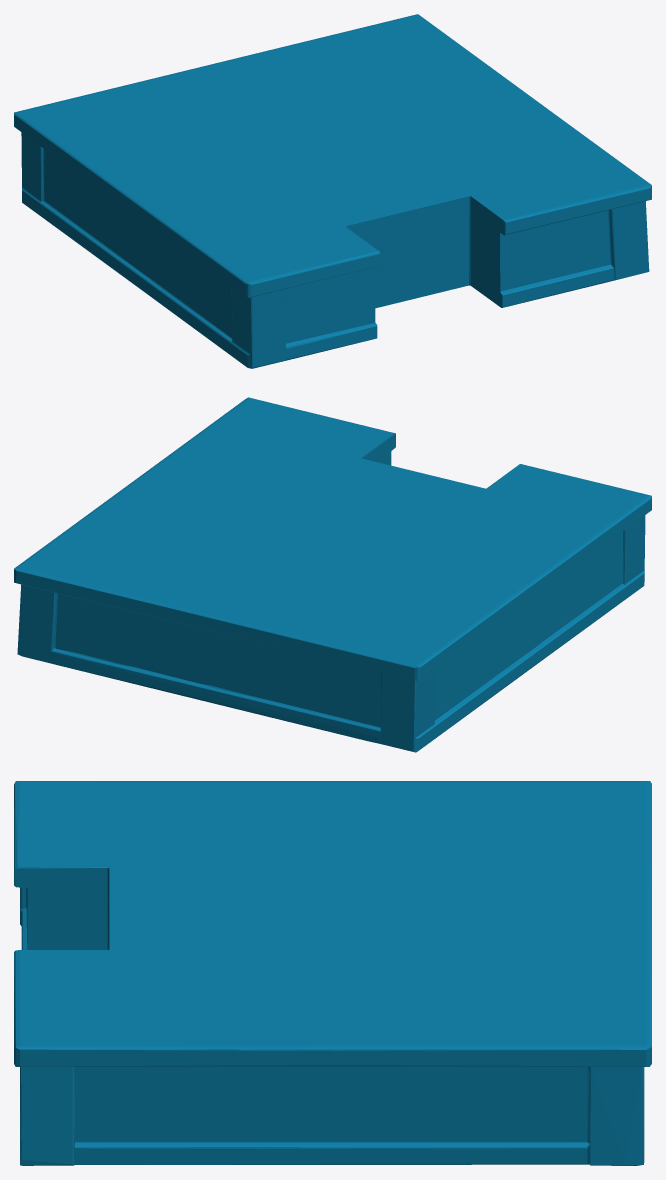
The model's file is Mesh_EDH_skirt1.fbx.
The picture shows the model from 3 angles, top to bottom: view 1: azimuth 30°, elevation 25°; view 2: azimuth 150°, elevation 25°; view 3: azimuth 270°, elevation 25°; orthographic projection. The views are drawn at different scales.
Visible parts, largest first — view 1: Group29920; view 2: Group29920; view 3: Group29920.
Boxes of the visible parts, x1,y1,x2,y2 form: Group29920: (14, 14, 651, 368); Group29920: (14, 397, 651, 752); Group29920: (14, 781, 651, 1165).
Size of the model in its own units: 175 by 36.79 by 175.
